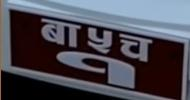1: (52, 49, 139, 91)
5: (86, 26, 113, 55)
ba: (38, 17, 81, 48)
cha: (118, 32, 153, 62)
